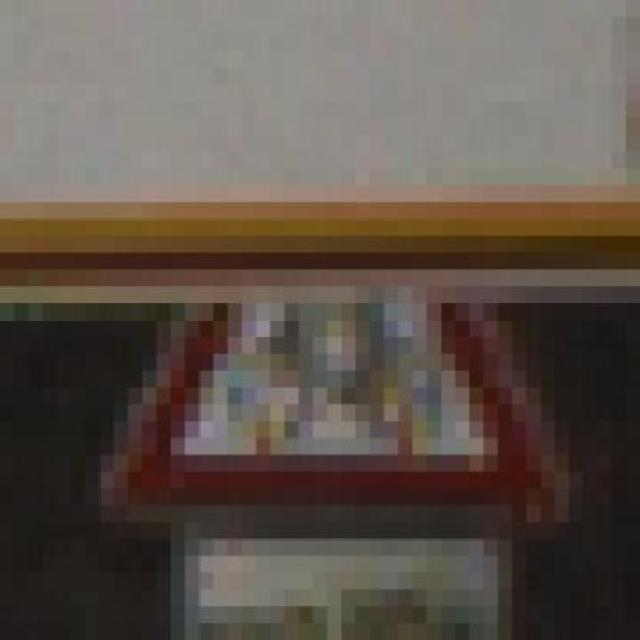CYCLE ROUTE AHEAD WARNING: (57, 286, 583, 522)
